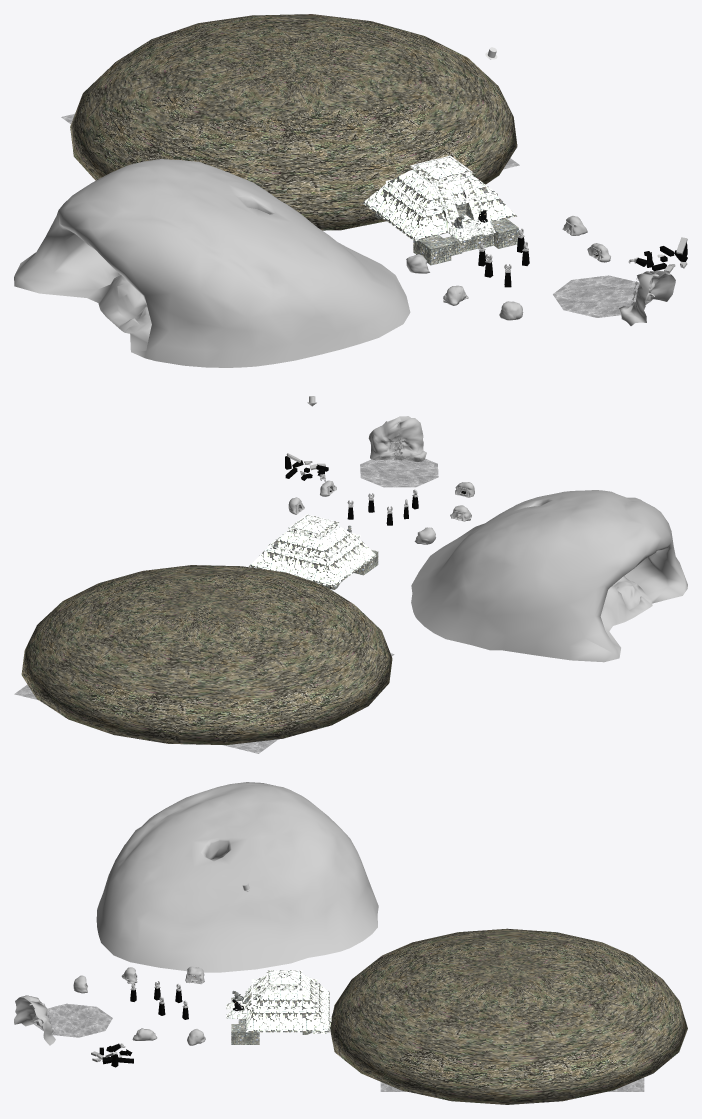
Rendered from Structures.FBX.
3 views of the same model, one above another, from view 1: azimuth 30°, elevation 25°; view 2: azimuth 150°, elevation 25°; view 3: azimuth 270°, elevation 25° (orthographic). The views are drawn at different scales.
Parts seen in each view (by area): view 1: Cavern, Dome, Temple Outside, Water Hole, Temple of Tizzleblat, Shrine Water, RuinStones; view 2: Cavern, Dome, Temple Outside, Water Hole, Shrine Water, RuinStones, Cavern Water; view 3: Cavern, Dome, Temple Outside, Water Hole, Shrine Water, Temple of Tizzleblat, RuinStones.
Boxes of the visible parts, left/top/right/bottom form: Cavern: left=70, top=14, right=517, bottom=230; Dome: left=14, top=159, right=410, bottom=367; Temple Outside: left=362, top=155, right=516, bottom=241; Water Hole: left=553, top=275, right=652, bottom=317; Temple of Tizzleblat: left=375, top=163, right=518, bottom=265; Shrine Water: left=619, top=270, right=675, bottom=325; RuinStones: left=628, top=237, right=687, bottom=273; Cavern: left=21, top=565, right=392, bottom=745; Dome: left=411, top=490, right=687, bottom=662; Temple Outside: left=249, top=514, right=376, bottom=587; Water Hole: left=360, top=455, right=438, bottom=487; Shrine Water: left=368, top=416, right=426, bottom=461; RuinStones: left=285, top=453, right=328, bottom=481; Cavern Water: left=14, top=653, right=394, bottom=753; Cavern: left=330, top=928, right=687, bottom=1104; Dome: left=96, top=782, right=378, bottom=972; Temple Outside: left=226, top=970, right=329, bottom=1032; Water Hole: left=32, top=1003, right=112, bottom=1037; Shrine Water: left=14, top=995, right=55, bottom=1045; Temple of Tizzleblat: left=231, top=974, right=331, bottom=1044; RuinStones: left=91, top=1043, right=133, bottom=1067.
Size of the model in its own units: 730 by 910 by 251.
